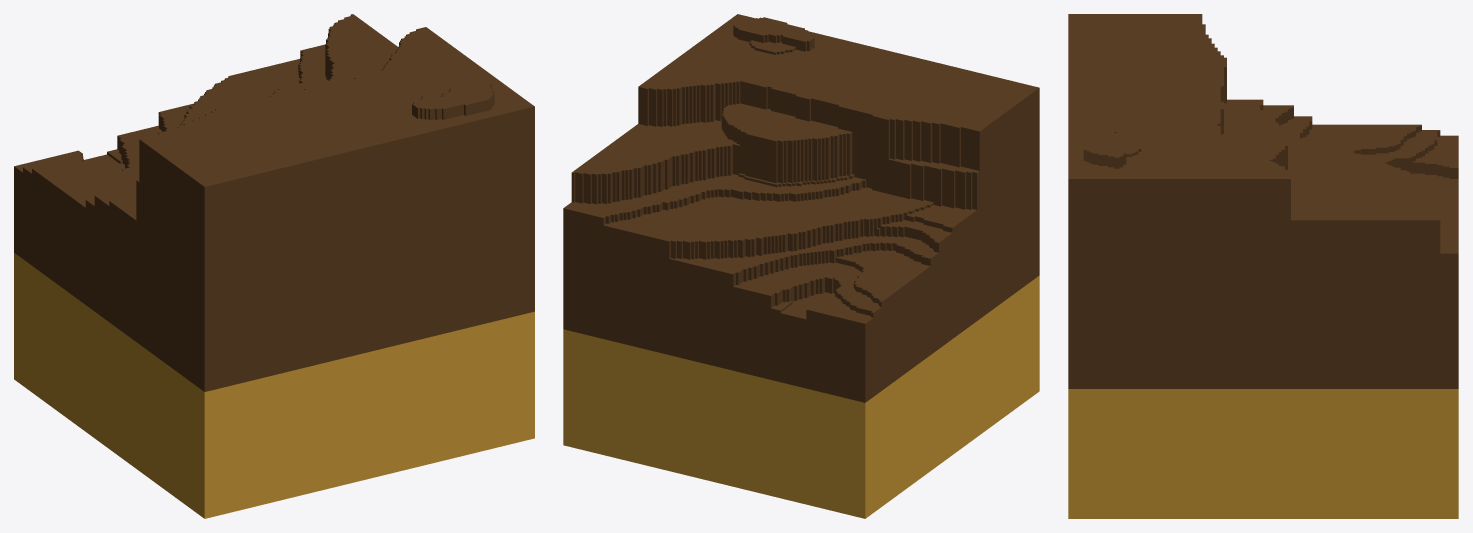
3 views of the same model, side by side, from view 1: azimuth 30°, elevation 25°; view 2: azimuth 150°, elevation 25°; view 3: azimuth 270°, elevation 25° (orthographic). The views are drawn at different scales.
Visible parts, largest first — view 1: 5O; view 2: 5O; view 3: 5O.
Boxes of the visible parts, left/top/right/bottom form: 5O: left=14, top=14, right=534, bottom=518; 5O: left=563, top=14, right=1039, bottom=518; 5O: left=1068, top=14, right=1458, bottom=518.
Size of the model in its own units: 12.8 by 12.7 by 12.8.
1 material, 1 textured.
